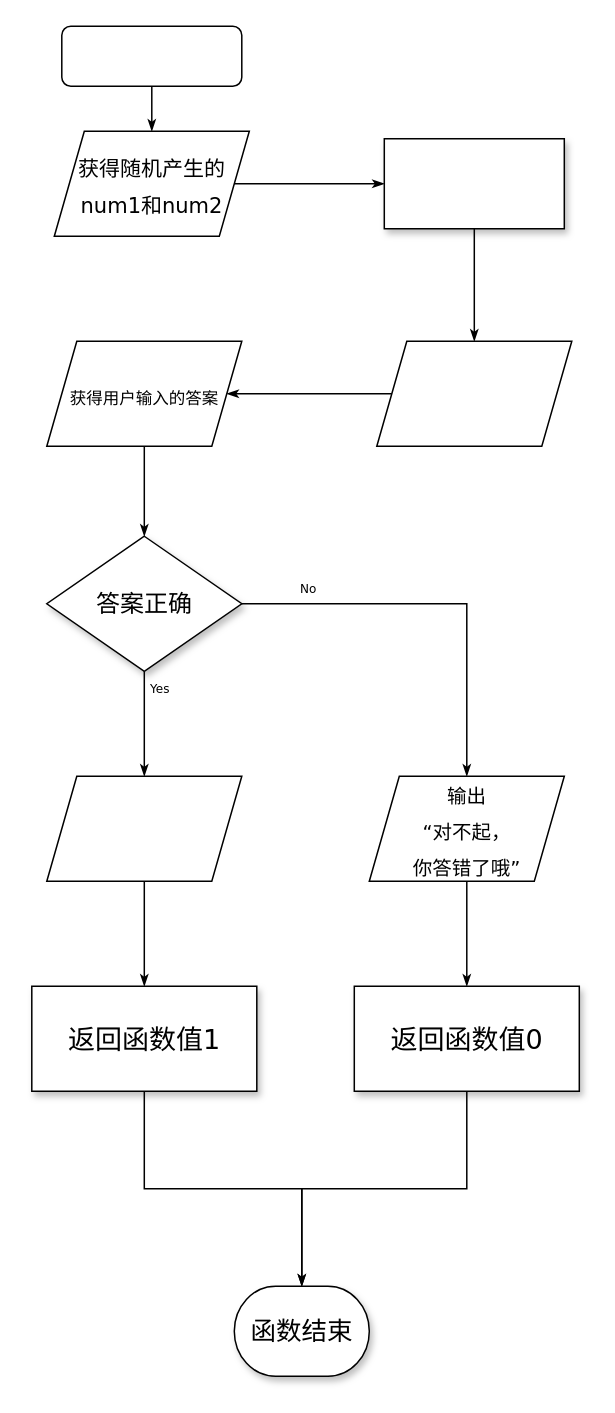
Some shapes in this 615 by 1413 pixel diagram are drawn without their labels. Each missing label, with the centre of its shape:
将num1和num2中较大的分配给numM1，较小的分配给numM2: point 475,185
开始: point 151,55
输出 “答对了，你真棒”: point 143,828
输出算式“numM1-numM2=”: point 473,393
